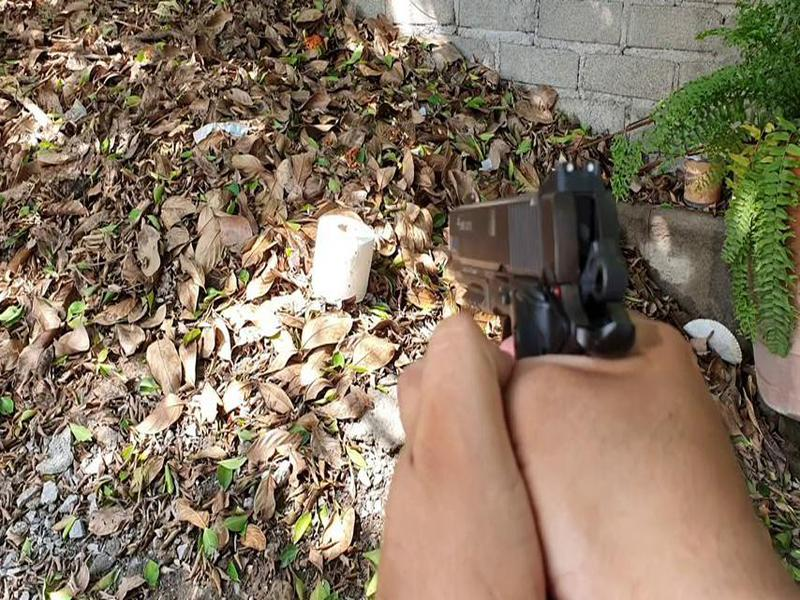Pistola: (424, 143, 663, 423)
